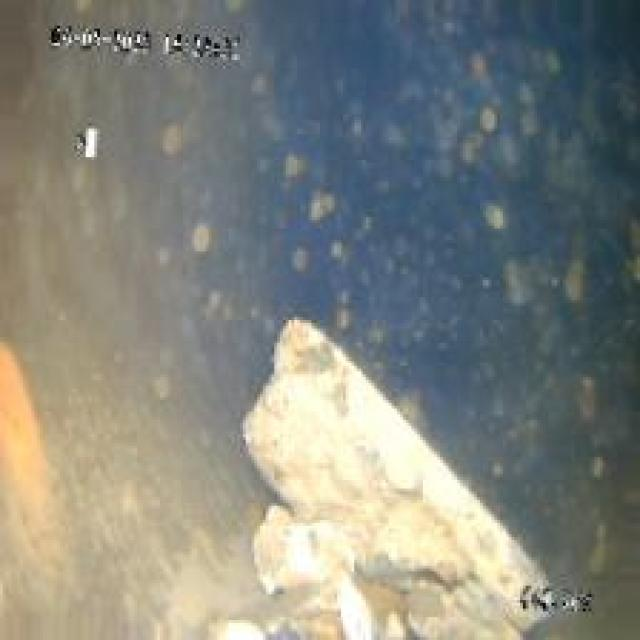stone: (203, 309, 537, 634)
